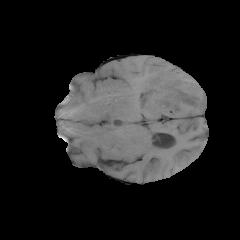glioma: (138, 65, 205, 134)
